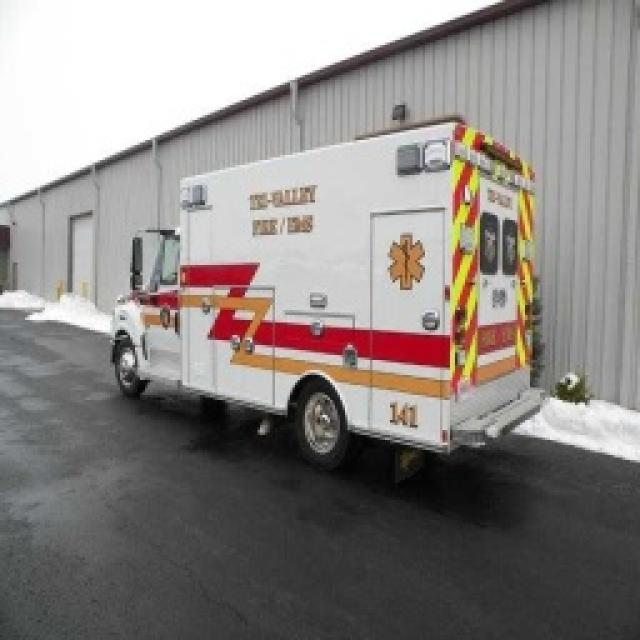emergency-vehicle: (111, 115, 540, 483)
